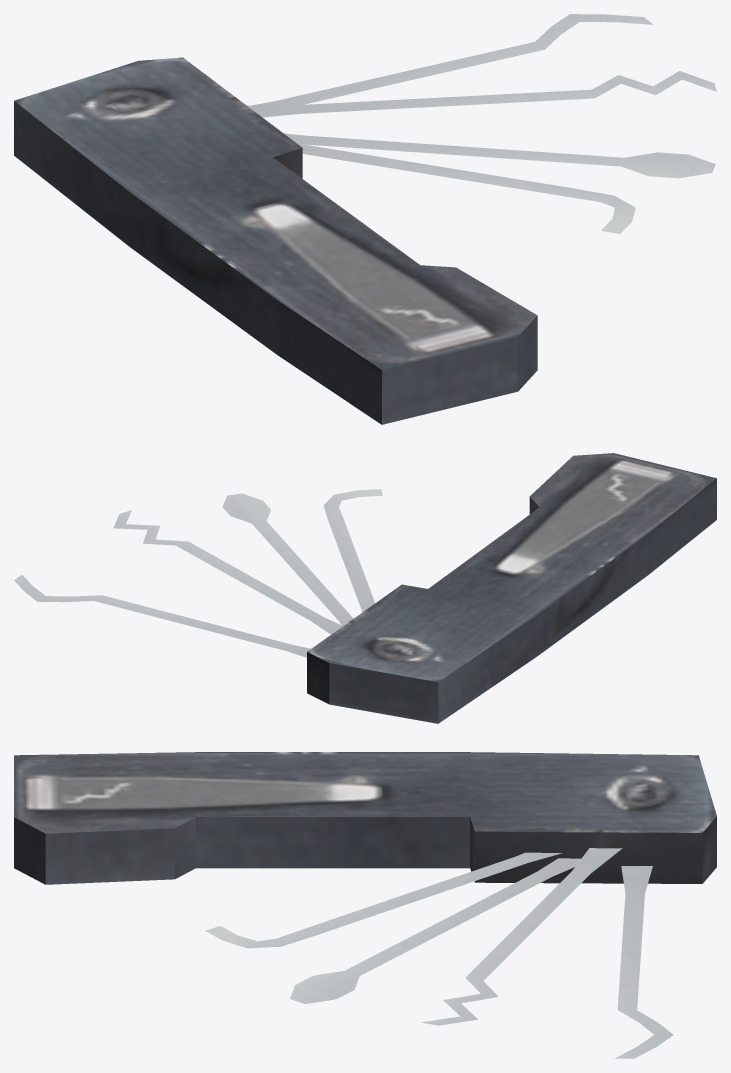
Rendered from lockpick.fbx.
The picture shows the model from 3 angles, top to bottom: view 1: azimuth 30°, elevation 25°; view 2: azimuth 150°, elevation 25°; view 3: azimuth 270°, elevation 25°; orthographic projection. The views are drawn at different scales.
Visible parts, largest first — view 1: lokcpickC.001; view 2: lokcpickC.001; view 3: lokcpickC.001.
Part boxes in pixels (x1,y1,x2,y2): lokcpickC.001: [14, 14, 716, 424]; lokcpickC.001: [14, 453, 716, 723]; lokcpickC.001: [14, 752, 716, 1058].
Bounding box in the file's own units: 23.24 × 2.03 × 25.26.
Materials: 1 (1 with a texture image).
